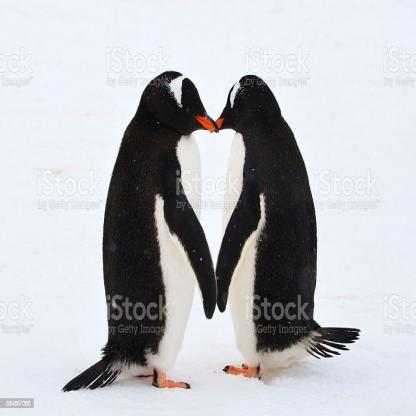Penguin: (61, 56, 221, 397), (204, 61, 366, 386)
